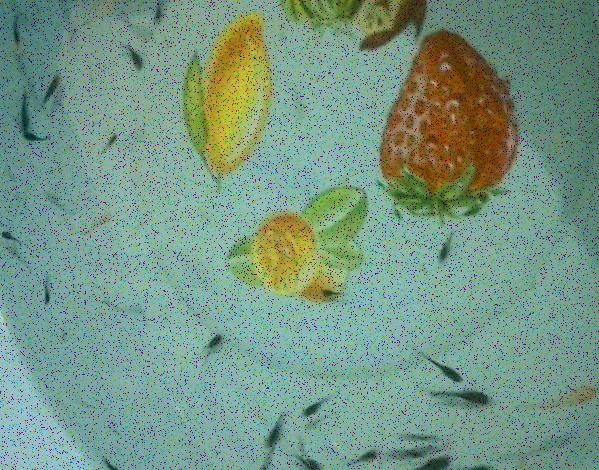fry: (524, 372, 597, 416), (417, 347, 468, 385), (429, 385, 494, 412), (420, 227, 464, 264), (36, 64, 74, 106), (12, 118, 58, 149), (257, 406, 291, 447), (296, 389, 341, 417), (7, 5, 31, 52), (32, 270, 57, 314), (118, 41, 149, 76), (196, 328, 231, 359), (305, 283, 354, 304), (10, 92, 33, 136), (96, 127, 120, 160), (145, 2, 173, 28), (1, 223, 26, 251), (425, 451, 460, 470), (91, 450, 125, 469), (352, 444, 383, 464), (293, 451, 331, 467)
